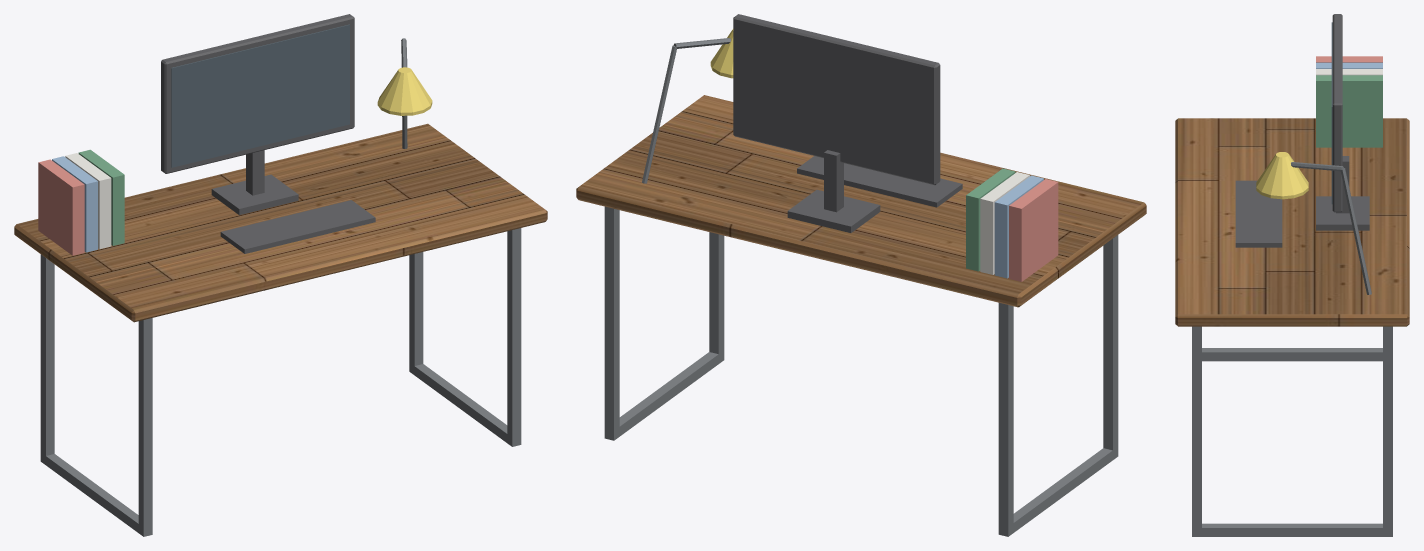
Rendered from desk.glb.
3 views of the same model, side by side, from view 1: azimuth 30°, elevation 25°; view 2: azimuth 150°, elevation 25°; view 3: azimuth 270°, elevation 25° (orthographic). The views are drawn at different scales.
Parts seen in each view (by area): view 1: desk_timber, desk_screen, desk_steel_d, desk_dark, desk_cloth_r, desk_paint_y, desk_paper, desk_paint_g, desk_cloth_b; view 2: desk_timber, desk_dark, desk_steel_d, desk_cloth_r, desk_paper, desk_cloth_b, desk_paint_g, desk_paint_y; view 3: desk_timber, desk_steel_d, desk_dark, desk_paint_g, desk_paint_y, desk_cloth_r, desk_cloth_b, desk_paper, desk_screen.
Part boxes in pixels (box(x1,y1,x2,y2)): desk_timber: box(14, 123, 547, 322); desk_screen: box(171, 24, 349, 167); desk_steel_d: box(40, 38, 521, 536); desk_dark: box(161, 14, 375, 253); desk_cloth_r: box(38, 159, 84, 255); desk_paint_y: box(377, 67, 432, 115); desk_paper: box(65, 153, 111, 249); desk_paint_g: box(78, 149, 124, 245); desk_cloth_b: box(52, 156, 97, 252); desk_timber: box(576, 95, 1146, 307); desk_dark: box(733, 14, 962, 232); desk_steel_d: box(604, 38, 1118, 536); desk_cloth_r: box(1009, 179, 1058, 281); desk_paper: box(980, 172, 1029, 274); desk_cloth_b: box(994, 175, 1043, 278); desk_paint_g: box(966, 168, 1015, 271); desk_paint_y: box(710, 29, 733, 78); desk_timber: box(1175, 118, 1409, 326); desk_steel_d: box(1192, 162, 1392, 536); desk_dark: box(1235, 14, 1369, 247); desk_paint_g: box(1316, 75, 1382, 147); desk_paint_y: box(1256, 152, 1308, 199); desk_cloth_r: box(1316, 56, 1382, 62); desk_cloth_b: box(1316, 62, 1382, 68); desk_paper: box(1316, 69, 1382, 75); desk_screen: box(1331, 22, 1332, 204).
Bounding box in the file's own units: 1.4 × 1.28 × 0.7.
Materials: 9 (1 with a texture image).
